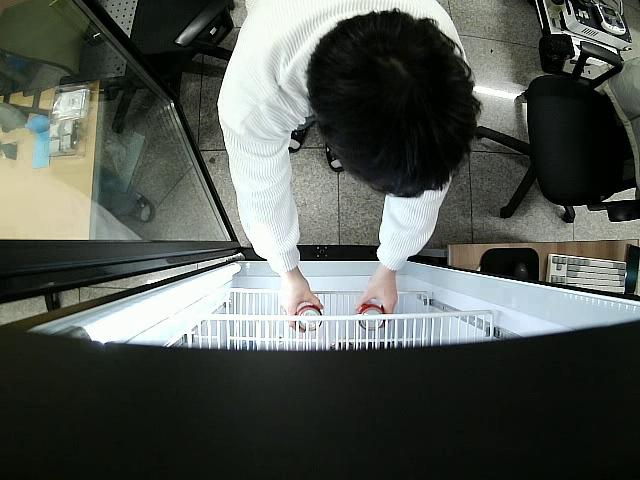00_hand: (280, 278, 324, 332), (353, 274, 397, 325)
11_cocaColaZero: (356, 298, 388, 332), (293, 303, 324, 332)
